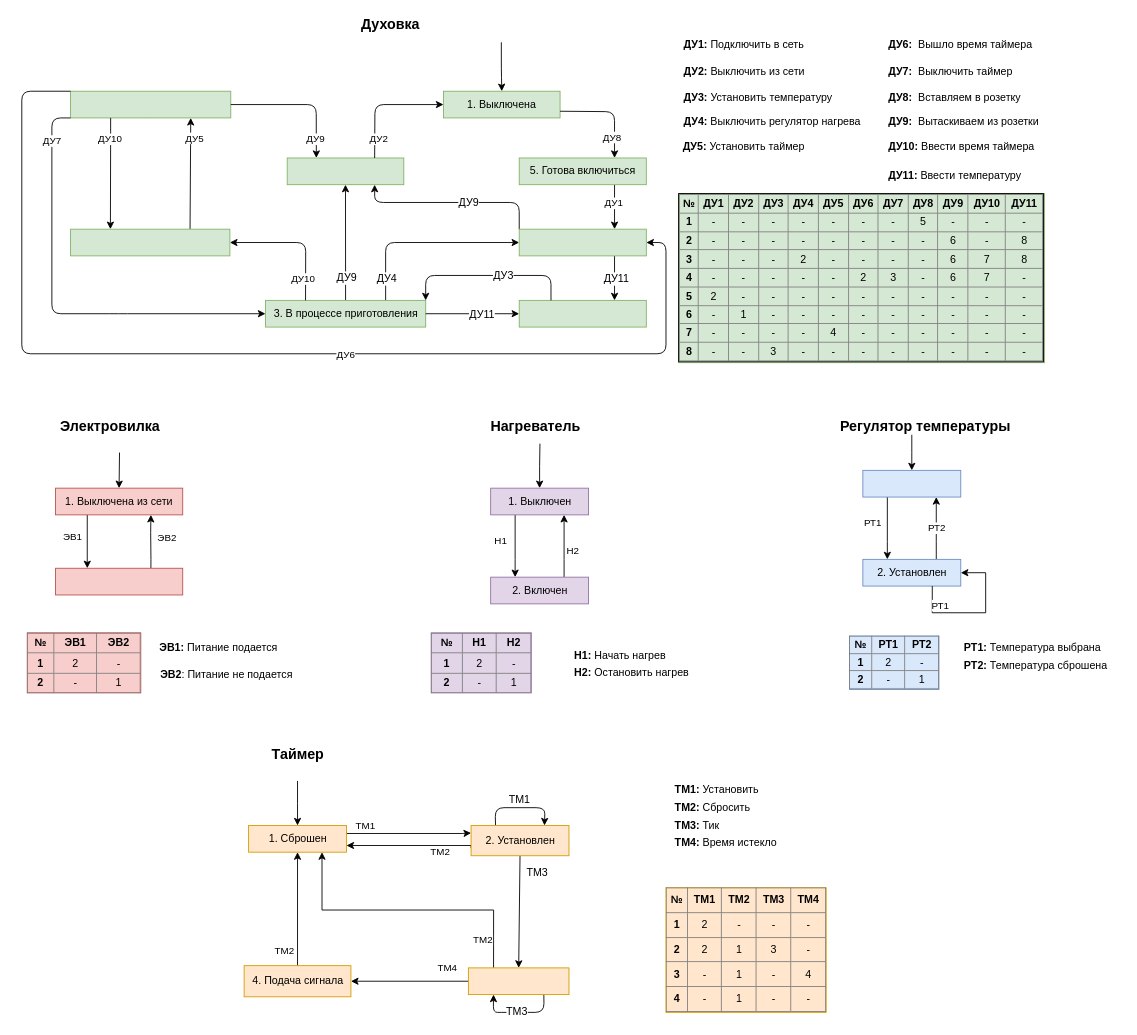
The diagram is 1137 pixels wide and 1035 high, and some of its shapes have lost their labels. The centre of each missing label's shape, as x and y in pixels:
1. Не установлен: point (911, 483)
2. В режиме ожидания: point (582, 242)
2. Включена в сеть: point (119, 581)
3. Отсчет времени: point (518, 981)
4. Таймер установлен: point (150, 104)
6. Готова выключиться: point (345, 171)
7. Введено время: point (150, 242)
8. Введена температура: point (582, 313)
